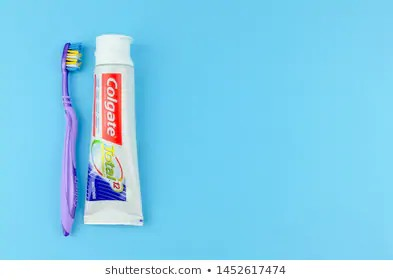colgate-total-150gm: (83, 34, 145, 228)
toothbrush: (53, 37, 88, 243)
